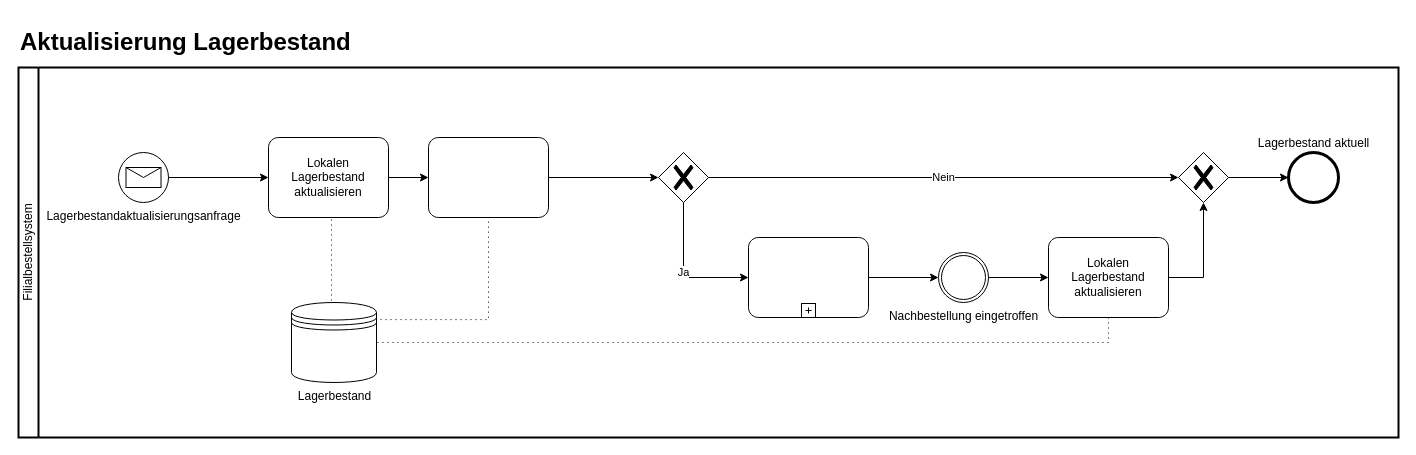
Some shapes in this 1416 by 455 pixel diagram are drawn without their labels. The centre of each missing label's shape, as x and y in pixels:
"Lokalen Lagerbestand überprüfen" goes at point (488, 177).
"Minimalmenge von Artikeln unterschritten?" goes at point (683, 177).
"Nachbestellung im Zentrallager tätigen" goes at point (808, 277).
